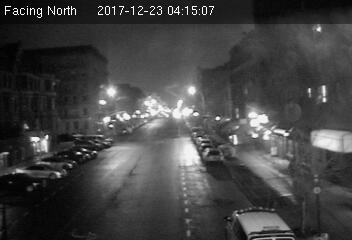car: (201, 148, 225, 164)
police: (224, 206, 293, 240)
